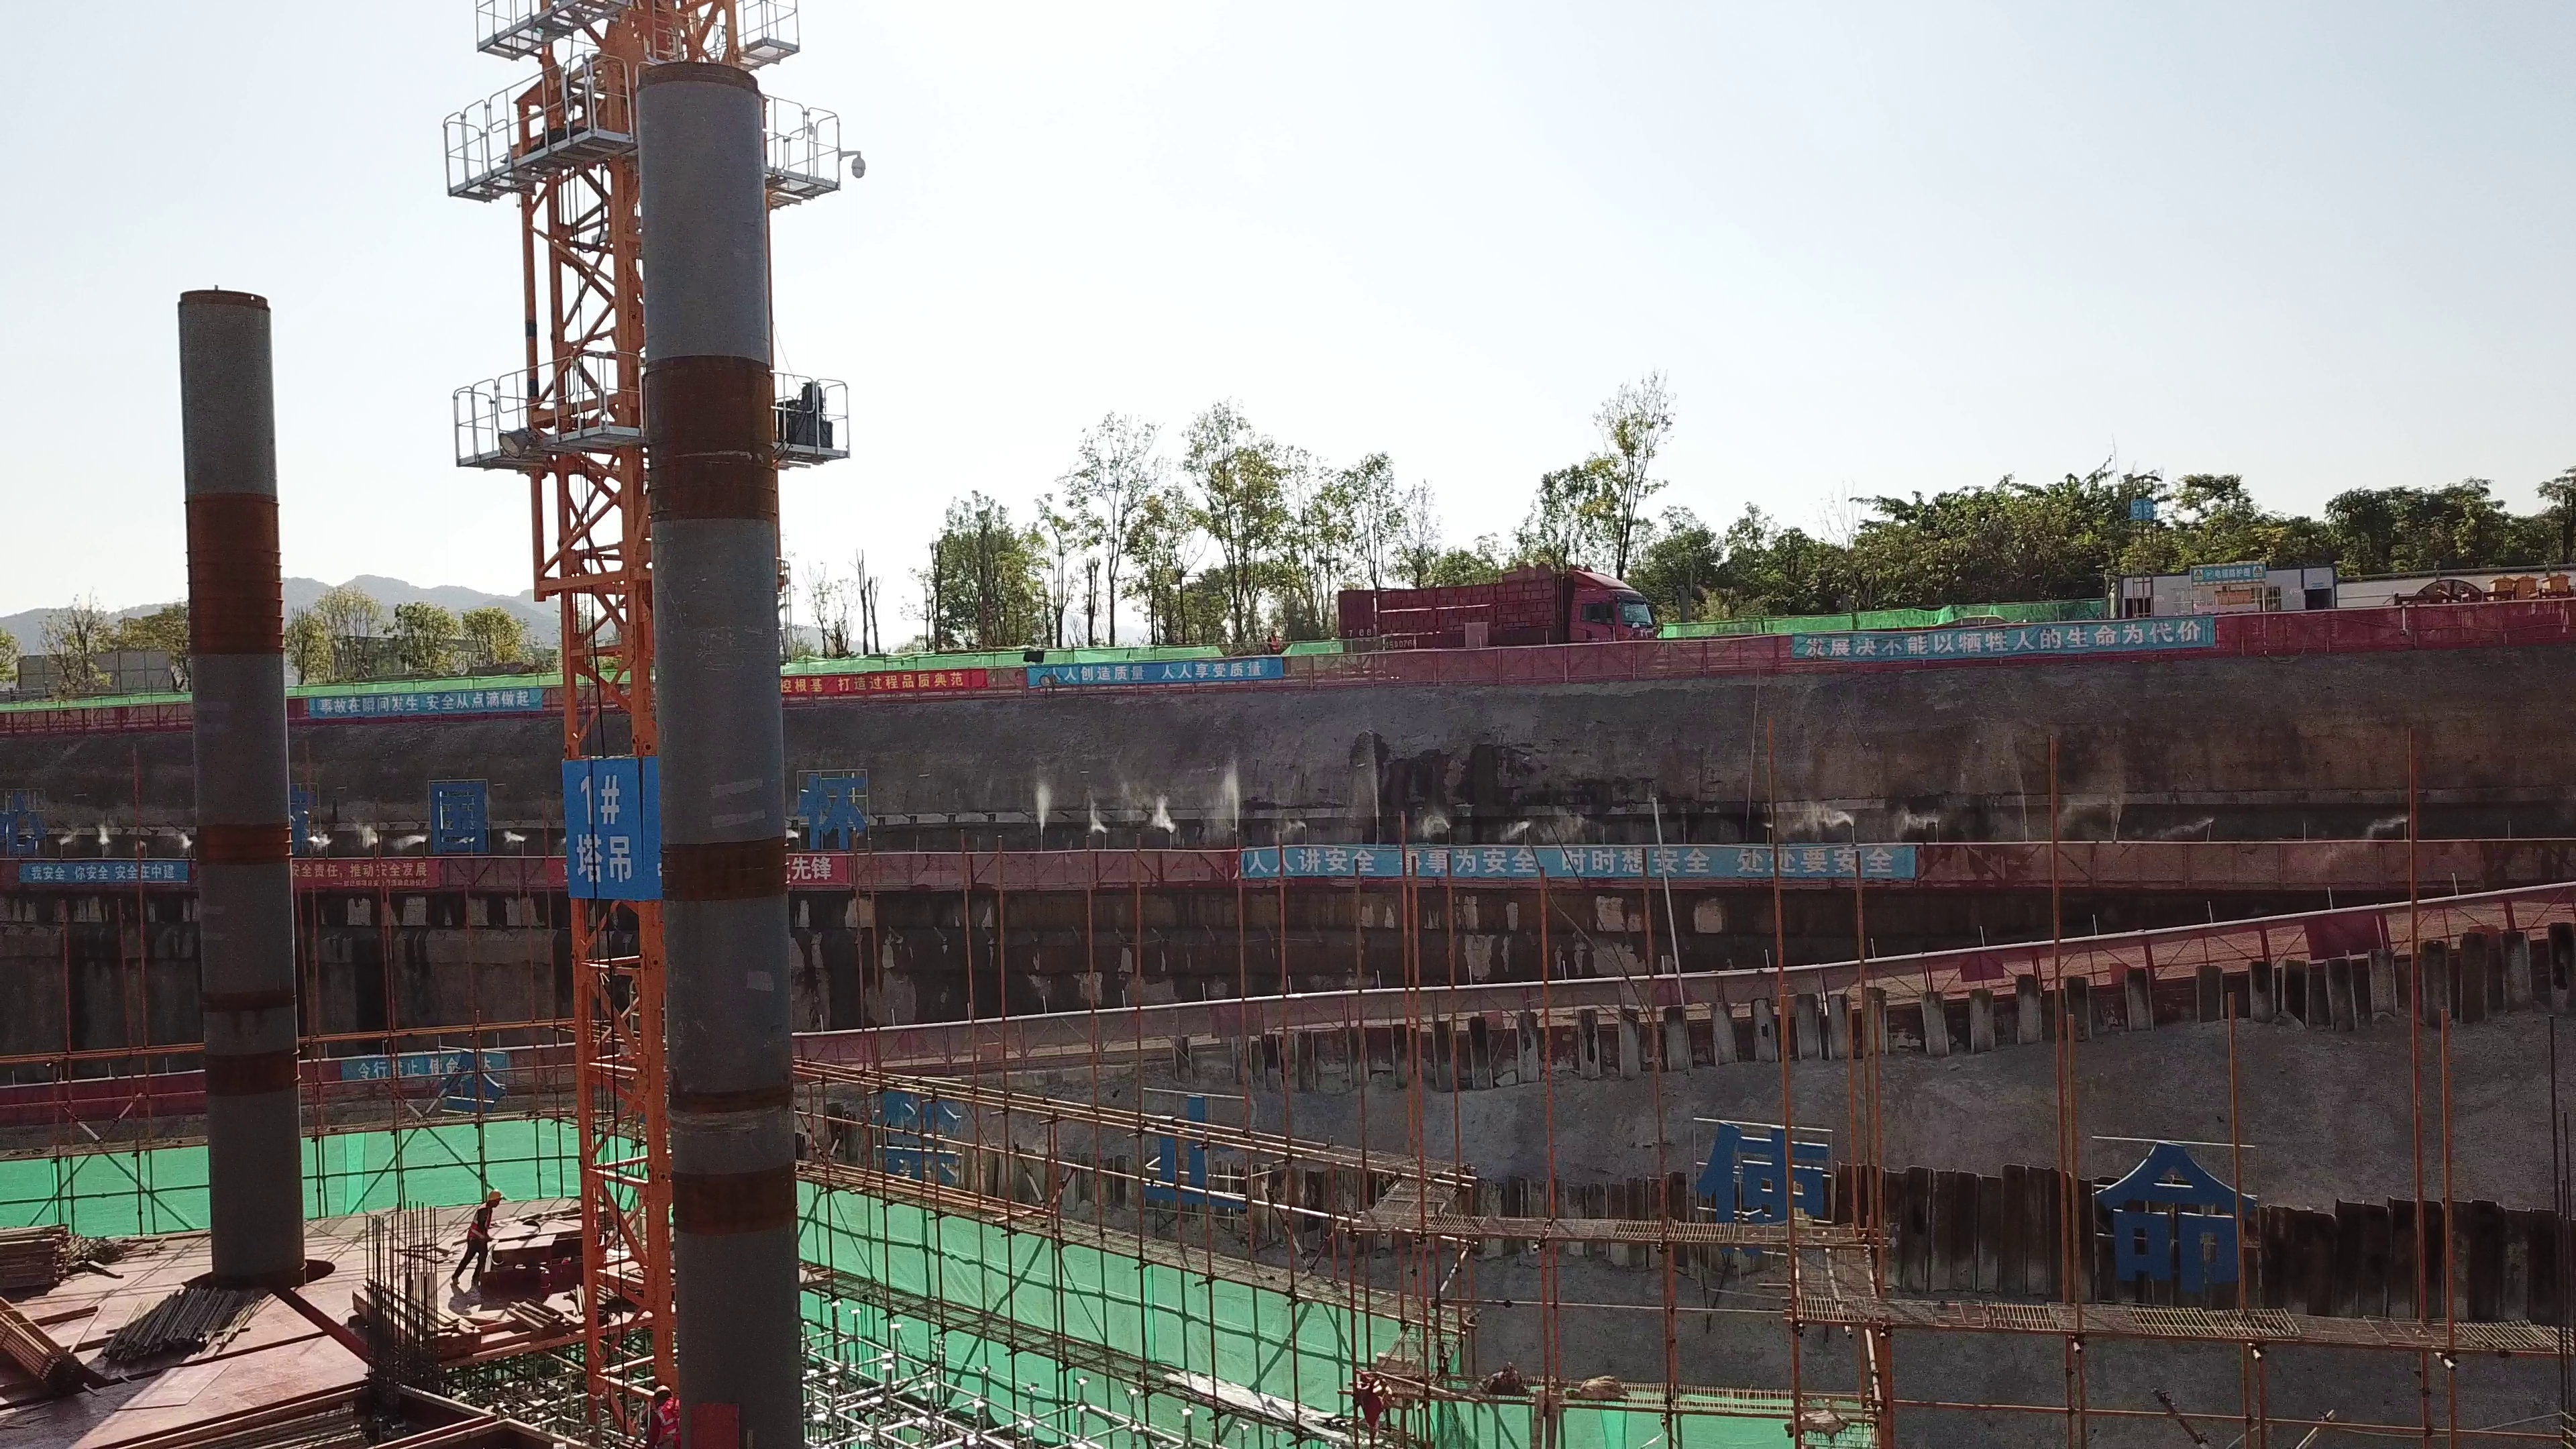fence: (1924, 814, 2561, 890), (1294, 635, 1790, 689), (2222, 596, 2567, 661)
helmet: (487, 1187, 503, 1201)
person: (450, 1188, 504, 1295), (638, 1384, 690, 1448)
slogan: (1236, 834, 1913, 883), (1793, 614, 2210, 652), (307, 682, 549, 722), (1025, 655, 1288, 691), (785, 662, 989, 699), (292, 860, 437, 894), (345, 1055, 521, 1079), (16, 860, 193, 883), (784, 853, 857, 892)
vest: (465, 1203, 494, 1242)
